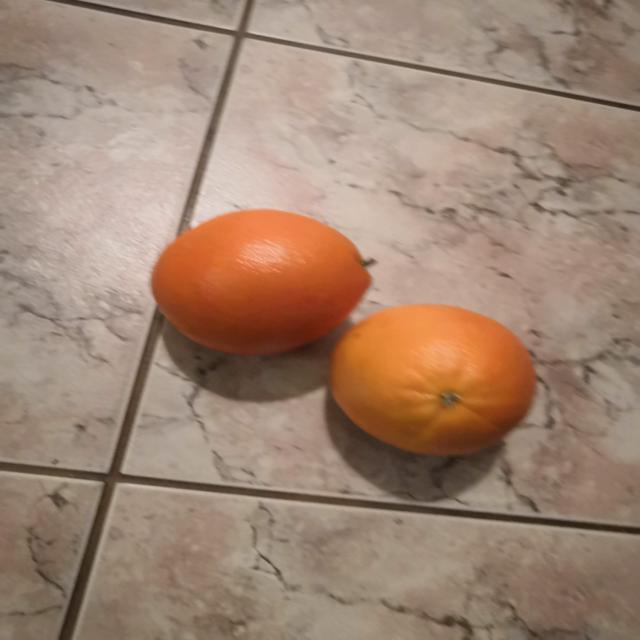orange: (152, 210, 372, 355), (330, 304, 535, 456)
